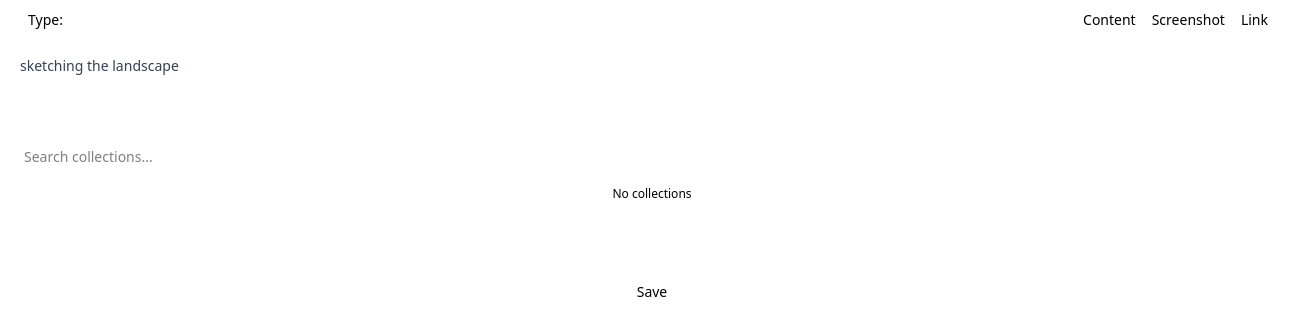
Test case: clipper preview › says how many media stayed links and stays open
Step 1. Click the button "Save" → [652, 292], box left=12, top=272, right=1292, bottom=312
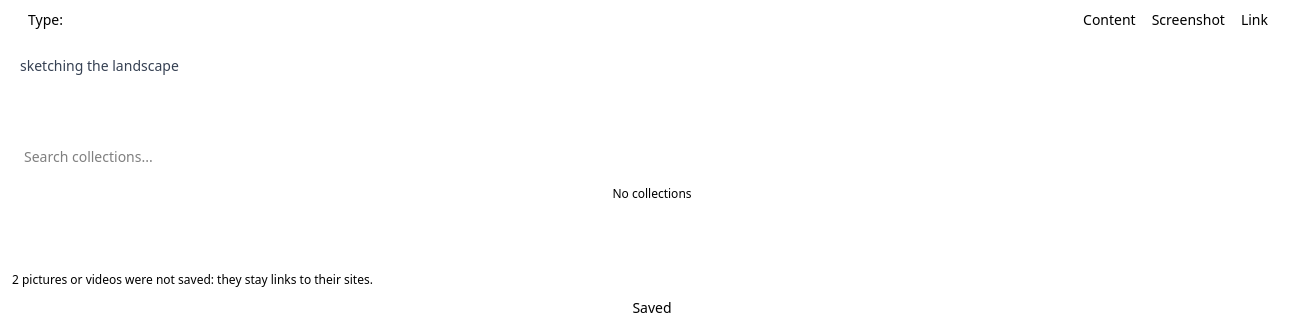
Check: the message "2 pictures or videos were not saved: they stay links to their sites." is shown, box left=12, top=271, right=373, bottom=288
